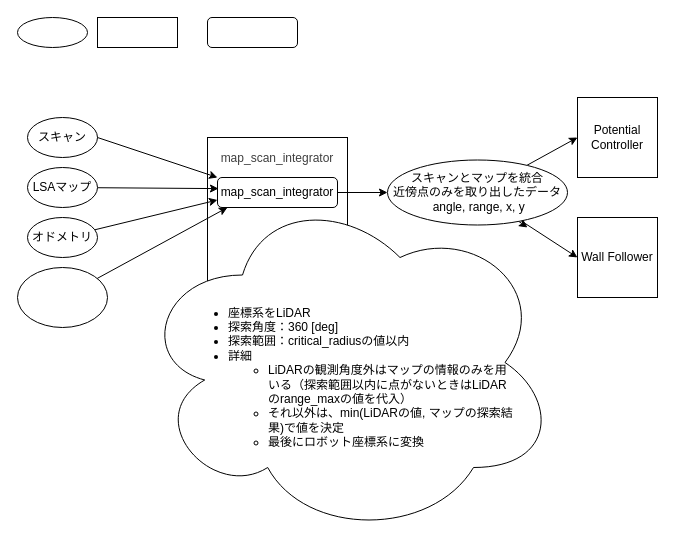
This 675x555 diagram has some shape labels left out. Here are the shapes that lost their labels. From the top down, the box of each, then its label:
(16, 16, 88, 48): データ
(96, 16, 178, 48): クラス
(206, 16, 298, 48): メソッド
(16, 266, 108, 328): ロボット | LiDARポーズ
